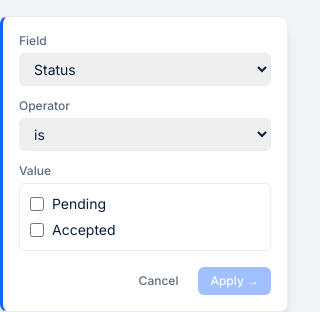
Test: FilterPopover › disables Apply until a valid value is chosen, per field valueKind
(page scrolled)
Check: the button "Apply →" is disabled, box 198,267 -> 271,295
Step 1. Click the checkbox labelled "Pending" → x=37, y=204, box 30,197 -> 44,211
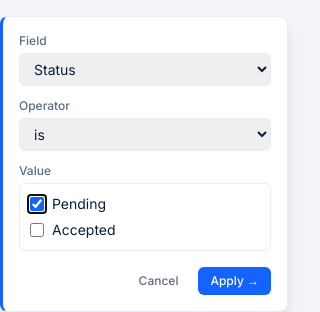
Check: the button "Apply →" is enabled, box 198,267 -> 271,295
